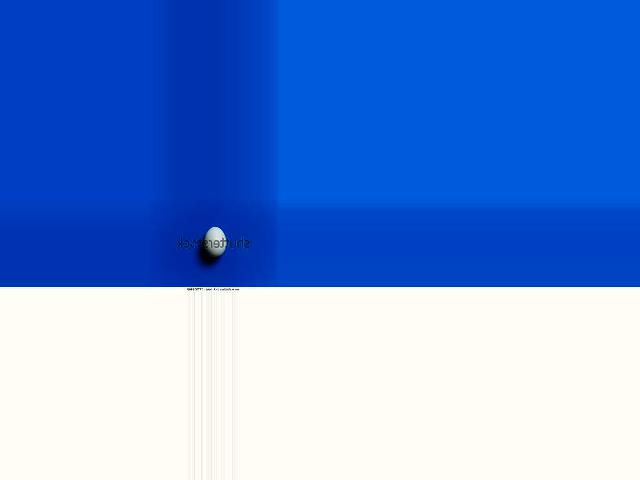egg: (203, 226, 225, 257)
